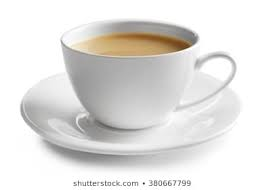cup: (54, 13, 248, 132)
